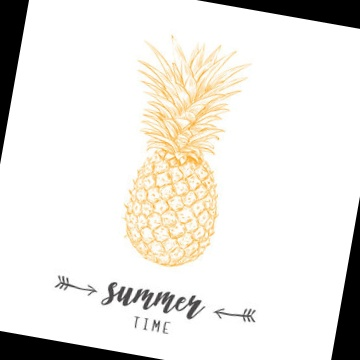Pineapple: (122, 33, 252, 265)
